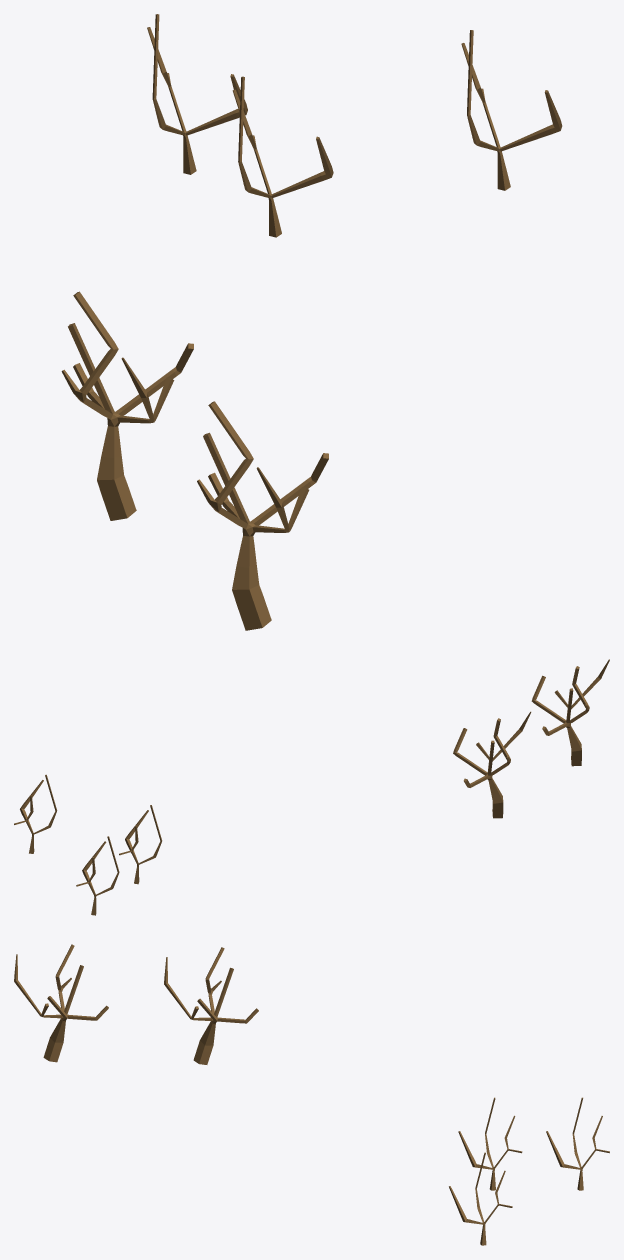
Rendered from trees.fbx.
3 renders of one model, top to bottom at view 1: azimuth 30°, elevation 25°; view 2: azimuth 150°, elevation 25°; view 3: azimuth 270°, elevation 25°, orthographic. The views are drawn at different scales.
Parts seen in each view (by area): view 1: tree 2, tree 5, tree 1, tree 3, tree 4; view 2: tree 2, tree 5, tree 4, tree 1, tree 3; view 3: tree 2, tree 5, tree 4, tree 1, tree 3.
Boxes of the visible parts, x1,y1,x2,y2 form: tree 2: (61,291,193,520); tree 5: (197,401,328,630); tree 1: (461,30,562,190); tree 3: (232,76,333,237); tree 4: (147,14,247,174); tree 2: (453,711,531,818); tree 5: (531,659,609,766); tree 4: (76,836,119,915); tree 1: (14,774,57,853); tree 3: (119,805,162,884); tree 2: (164,947,258,1064); tree 5: (14,944,108,1062); tree 4: (546,1097,609,1190); tree 1: (449,1152,512,1245); tree 3: (458,1097,522,1190).
Bounding box in the file's own units: 45755 × 14540 × 61440.
